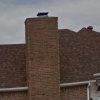Chimney: (19, 7, 61, 36)
